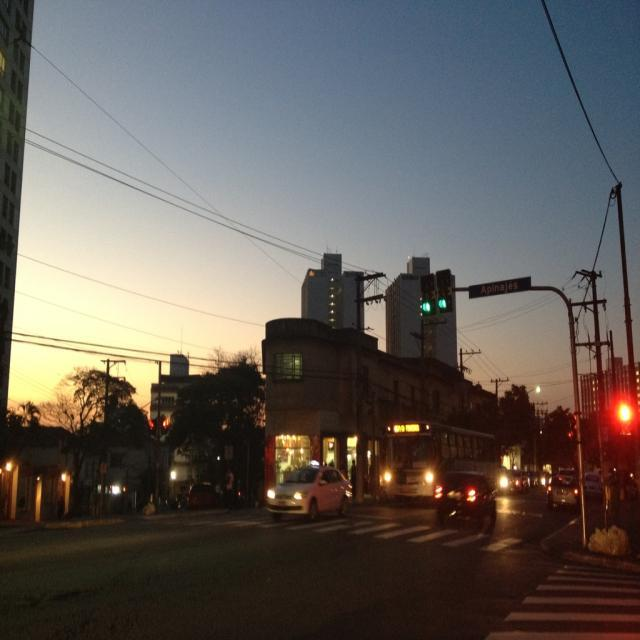traffic light: (419, 275, 438, 317), (436, 270, 453, 312)
